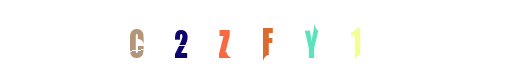1: (284, 0, 364, 80)
2: (141, 0, 221, 80)
C: (105, 0, 185, 80)
F: (220, 0, 300, 80)
Y: (271, 0, 351, 80)
Z: (206, 0, 286, 80)
